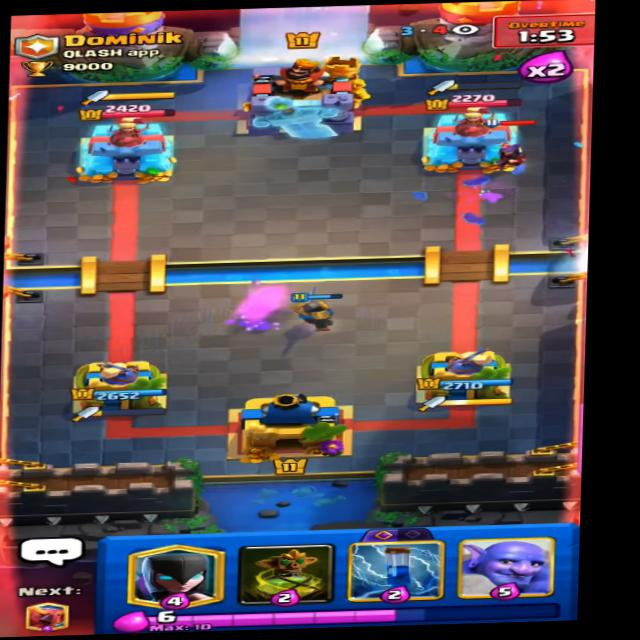evo-wizard: (476, 113, 543, 170)
